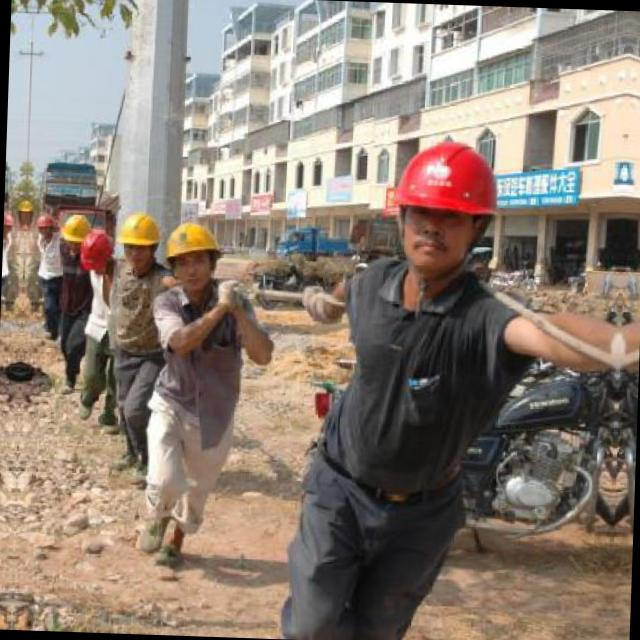helmet: (378, 130, 504, 288), (156, 215, 222, 293), (118, 204, 162, 278), (76, 229, 110, 278), (53, 213, 91, 253), (29, 210, 56, 245), (2, 208, 18, 244)
